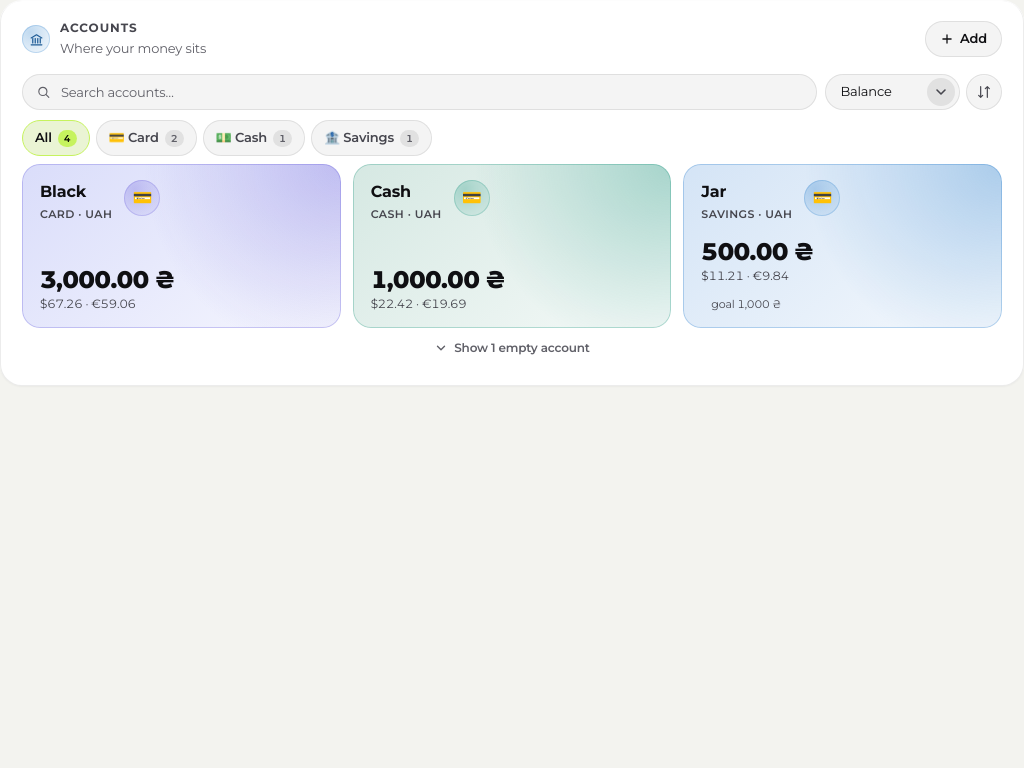
Test: AccountsCard › lists the accounts by balance and folds the empty ones
Expected: the text "goal 1,000 ₴" is shown, [711,296,781,312]
Click the button "Show 1 empty account": (512, 348) [22,332,1002,364]
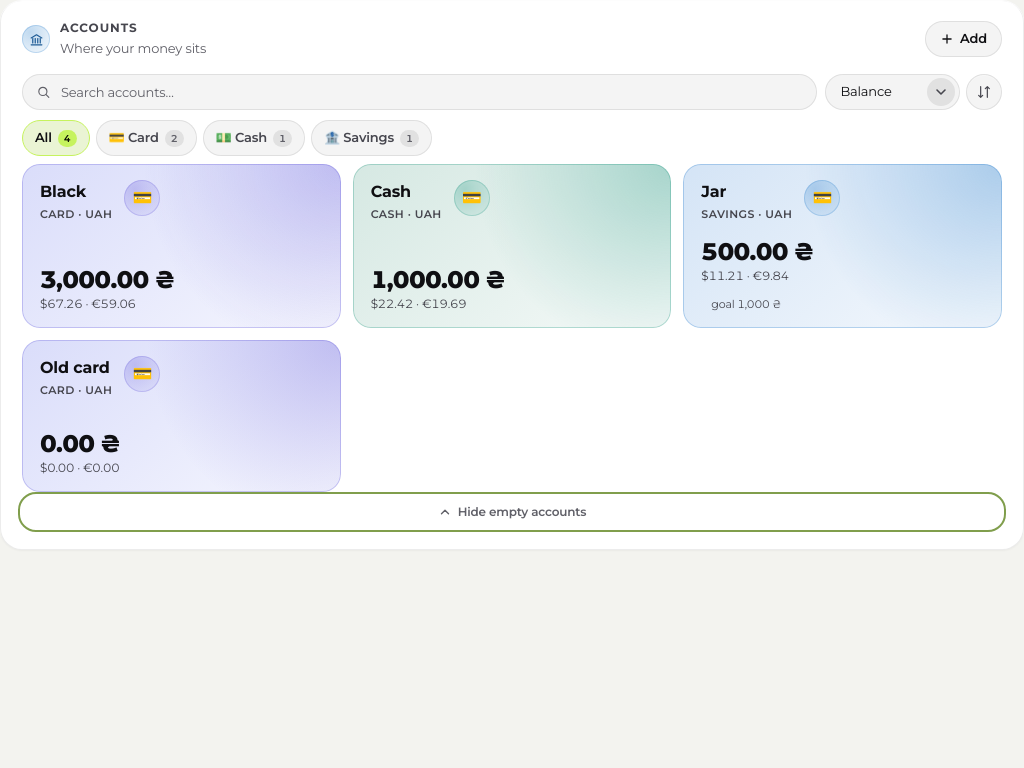
Result: the text "Old card" is shown at [40,356,112,380]
